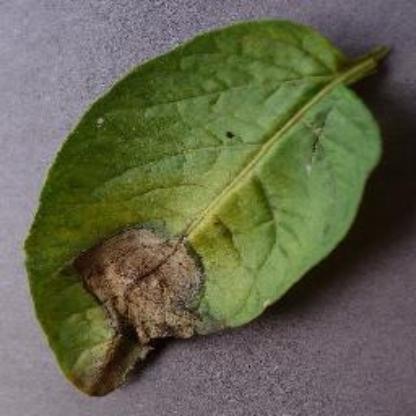Late-Blight: (22, 20, 390, 398)
